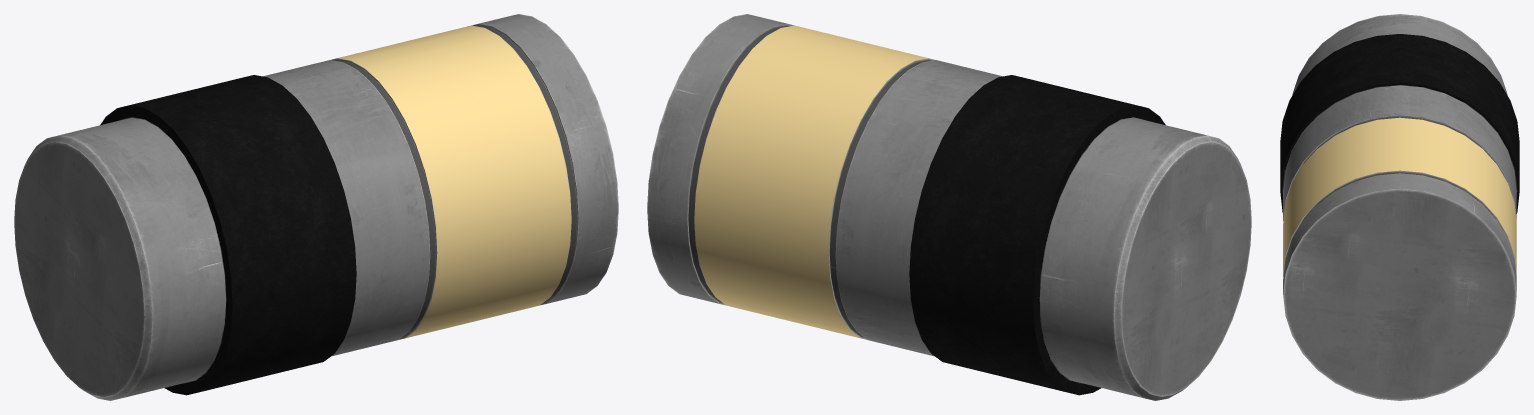
The model's file is pommel_6_c_b.glb.
3 renders of one model, left to right at view 1: azimuth 30°, elevation 25°; view 2: azimuth 150°, elevation 25°; view 3: azimuth 270°, elevation 25°, orthographic. The views are drawn at different scales.
Visible parts, largest first — view 1: pommel_6_c_b_lod0; view 2: pommel_6_c_b_lod0; view 3: pommel_6_c_b_lod0.
Part boxes in pixels (x1,y1,x2,y2): pommel_6_c_b_lod0: (14,14,618,400); pommel_6_c_b_lod0: (647,14,1251,400); pommel_6_c_b_lod0: (1280,14,1519,400).
Size of what is drawn, in the model's own units: 0.0491 by 0.027 by 0.027.
1 material, 1 textured.
